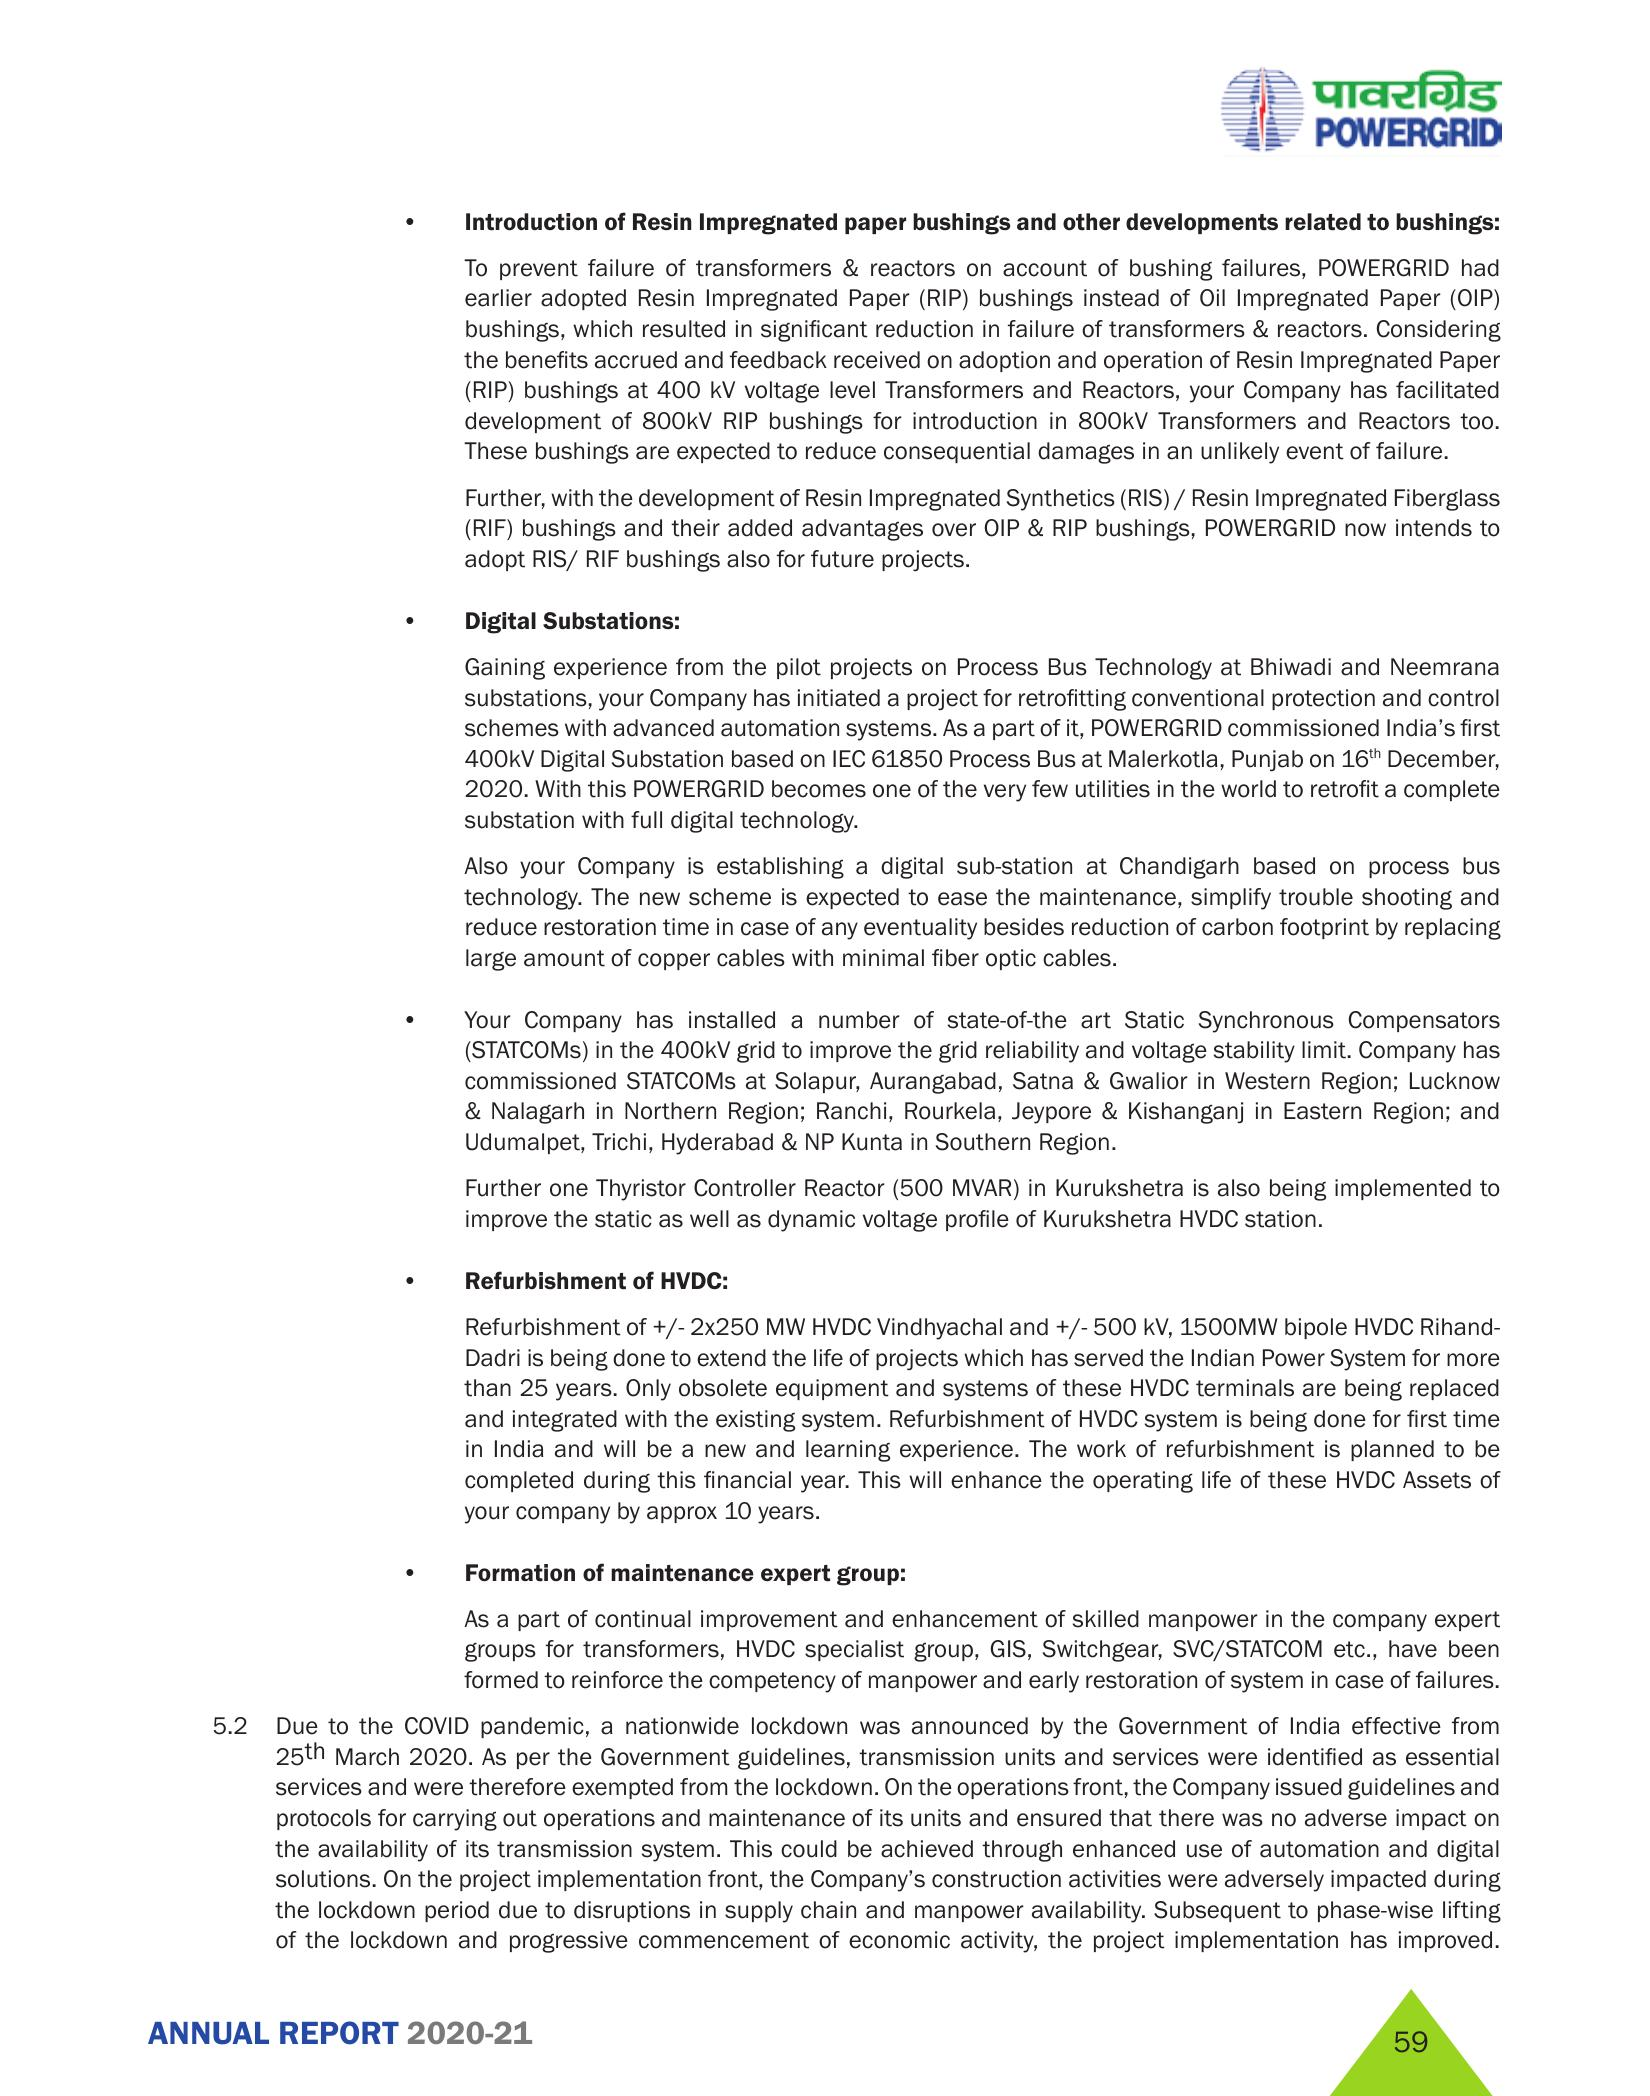Footer: (0, 1969, 1650, 2096)
Header: (0, 0, 1650, 163)
